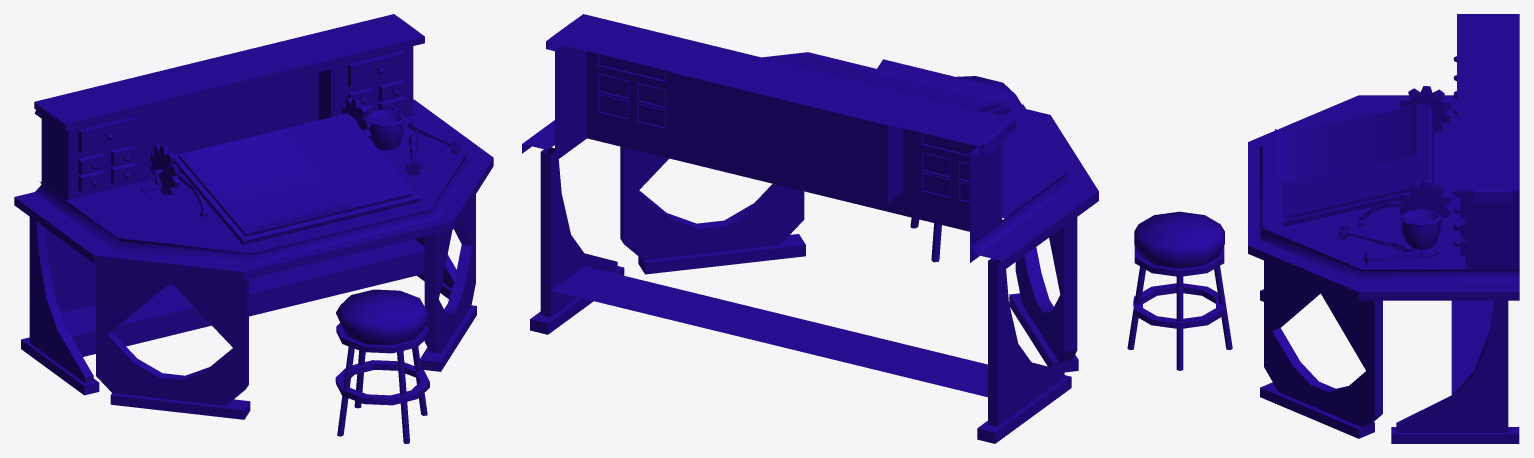
The model's file is CG_Model_TownInt_WritingDesk_Mar24_ChrisMcknight.FBX.
The picture shows the model from 3 angles, left to right: view 1: azimuth 30°, elevation 25°; view 2: azimuth 150°, elevation 25°; view 3: azimuth 270°, elevation 25°; orthographic projection. The views are drawn at different scales.
Parts seen in each view (by area): view 1: Box041; view 2: Box041; view 3: Box041.
Part boxes in pixels (x1,y1,x2,y2): Box041: (14,14,493,443); Box041: (522,14,1098,443); Box041: (1127,14,1519,443).
Bounding box in the file's own units: 43.9 × 25.62 × 36.93.
